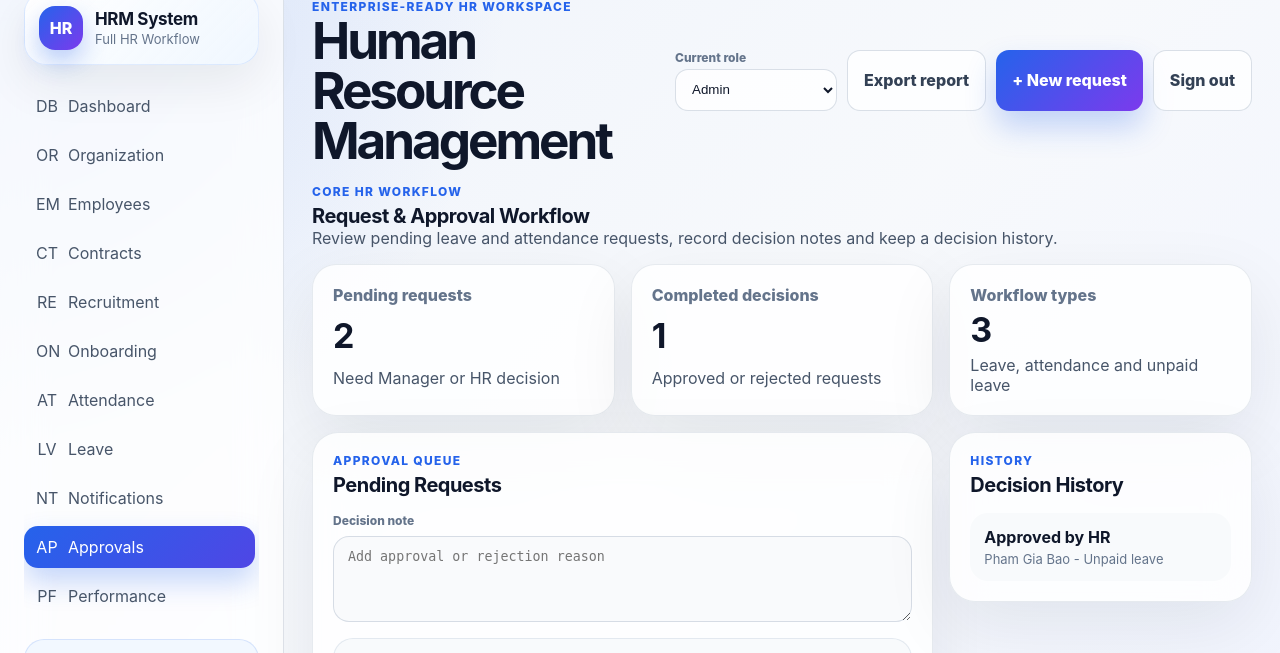
Test: HRM route navigation › opens request approvals and rejects a timesheet adjustment with a note
Expected: the heading "Request & Approval Workflow" is shown, [312,204,589,228]
Expected: the heading "Pending Requests" is shown, [333,474,501,496]
Step 1. Type "Missing manager confirmation" into the text box labelled "Decision note" → (623, 578), box [333,536,912,622]
(page scrolled)
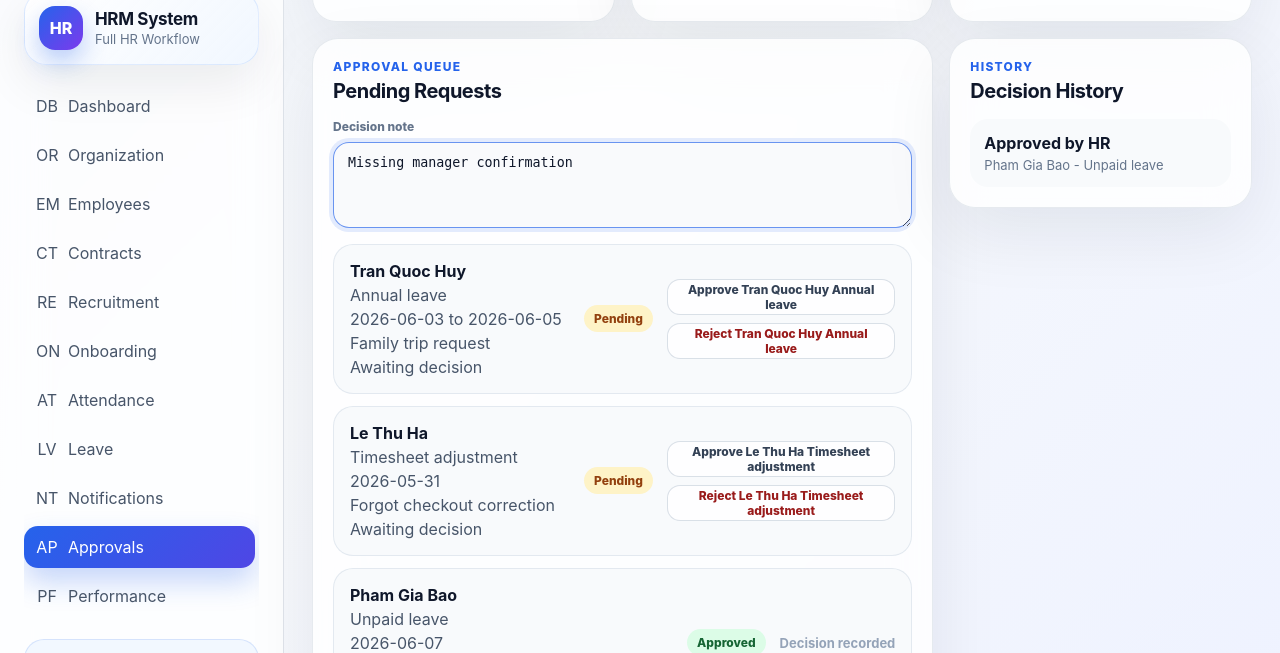
Step 2. Click the button "Reject Le Thu Ha Timesheet adjustment" → (781, 502), box [667,484,895,520]
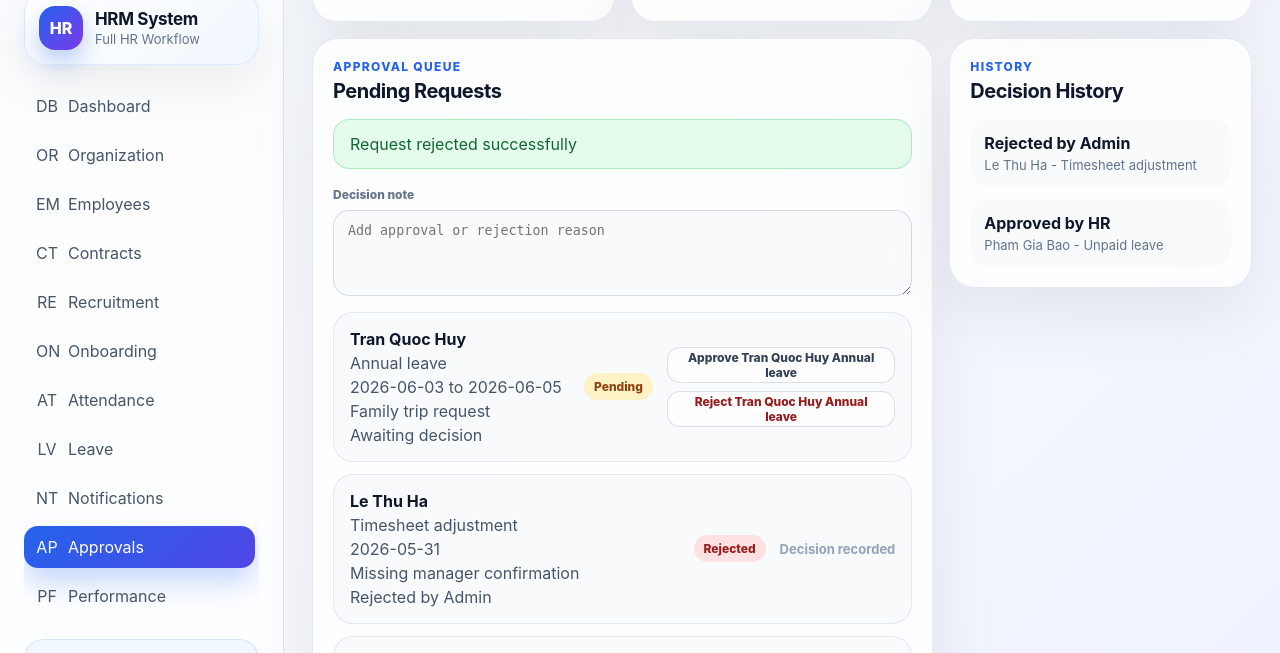
Expected: the message shows "Request rejected", [350,134,577,154]
Expected: the text "Missing manager confirmation" is shown, [350,562,579,582]
Expected: the text "Rejected by Admin" below "Missing manager confirmation" is shown, [350,586,492,606]
